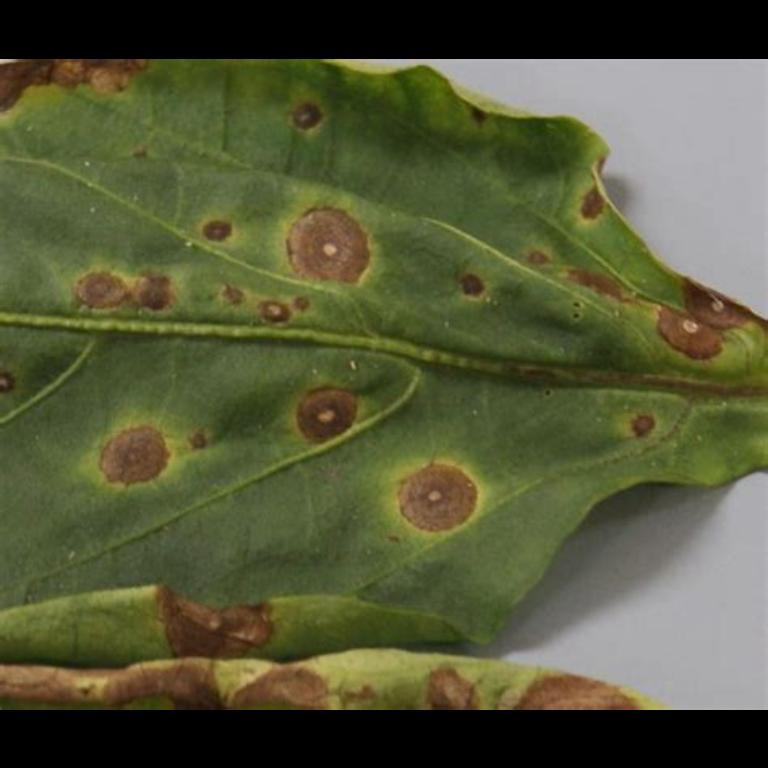blight: (96, 593, 342, 709), (276, 196, 392, 304), (1, 61, 154, 117)
